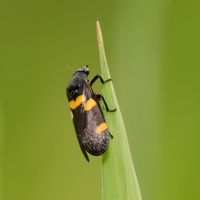insect: (66, 66, 114, 161)
